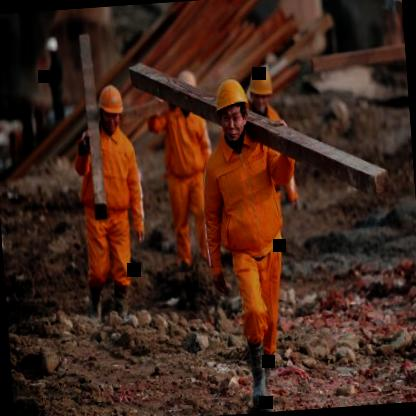helmet: (212, 73, 255, 149), (96, 80, 128, 136), (247, 66, 277, 115)
